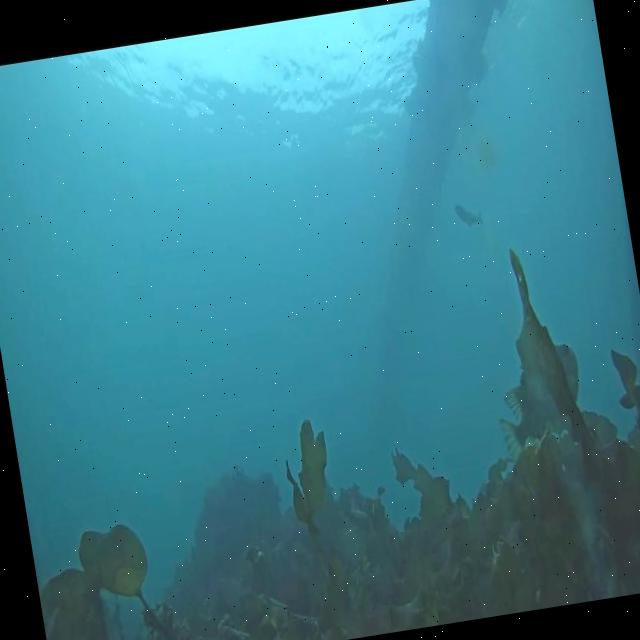fish: (487, 340, 592, 463), (455, 197, 484, 230)
